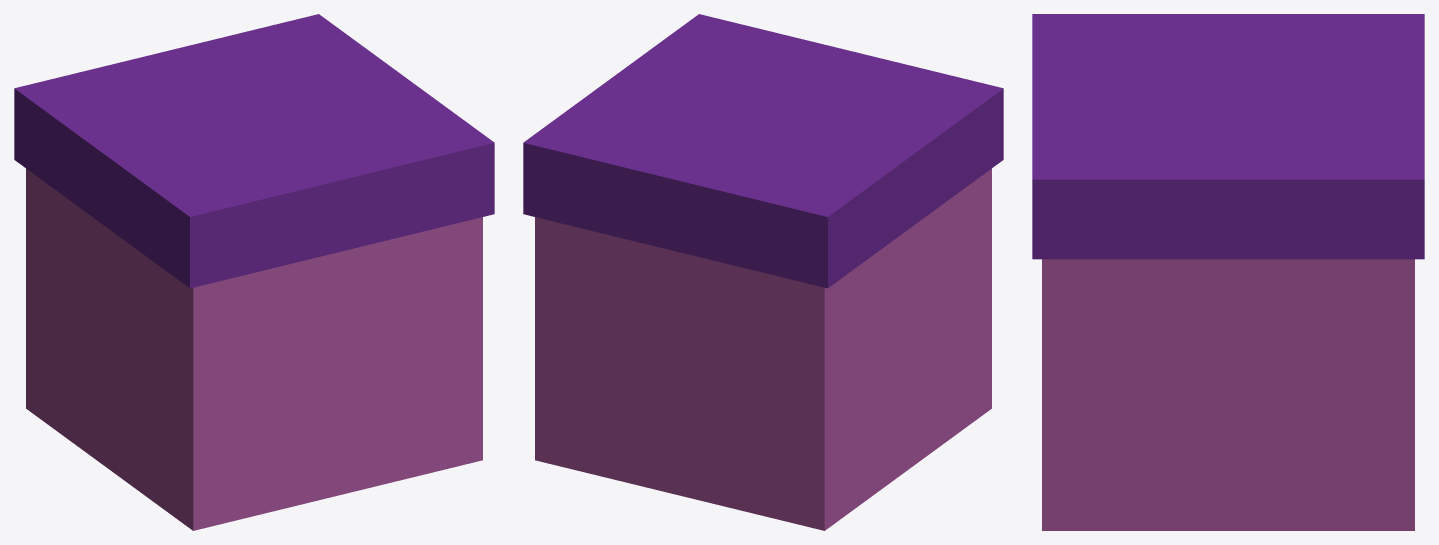
The model's file is TallShoeBox.fbx.
3 views of the same model, side by side, from view 1: azimuth 30°, elevation 25°; view 2: azimuth 150°, elevation 25°; view 3: azimuth 270°, elevation 25° (orthographic). The views are drawn at different scales.
Visible parts, largest first — view 1: caixa sapato alta; view 2: caixa sapato alta; view 3: caixa sapato alta.
Boxes of the visible parts, x1=… form: caixa sapato alta: x1=14, y1=14, x2=494, y2=530; caixa sapato alta: x1=523, y1=14, x2=1003, y2=530; caixa sapato alta: x1=1032, y1=14, x2=1424, y2=530.
Size of the model in its own units: 200 by 200 by 200.
